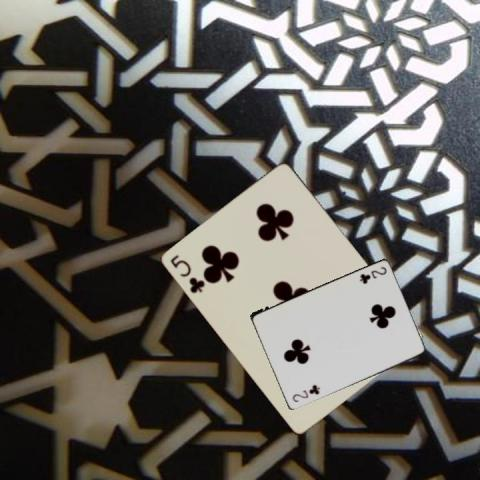2c: (290, 382, 322, 404), (357, 264, 388, 284)
5c: (168, 252, 208, 296)
